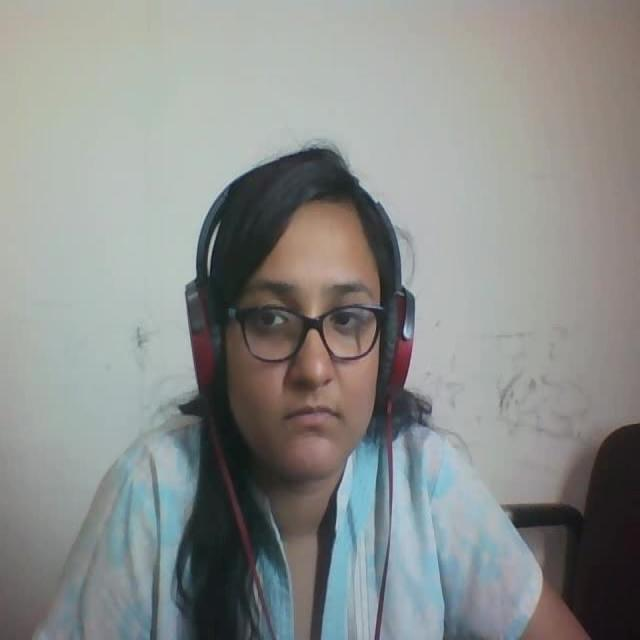Engaged: (176, 127, 427, 521)
